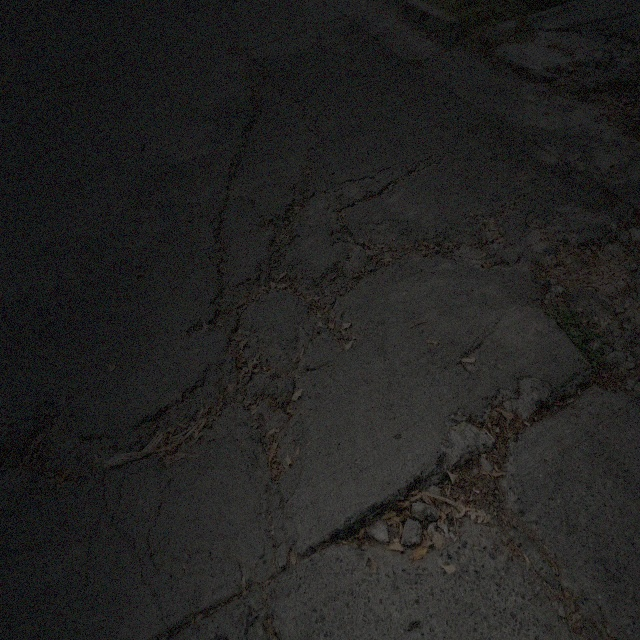pothole: (344, 406, 526, 558), (530, 193, 637, 398), (234, 324, 298, 474), (15, 404, 120, 492), (147, 376, 220, 474), (437, 200, 516, 273), (297, 272, 358, 354), (271, 188, 302, 288), (194, 288, 229, 336)
